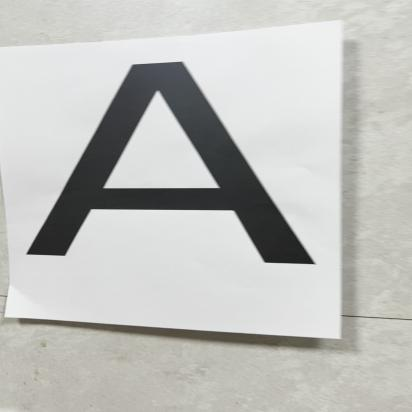seat: (40, 63, 327, 292)
